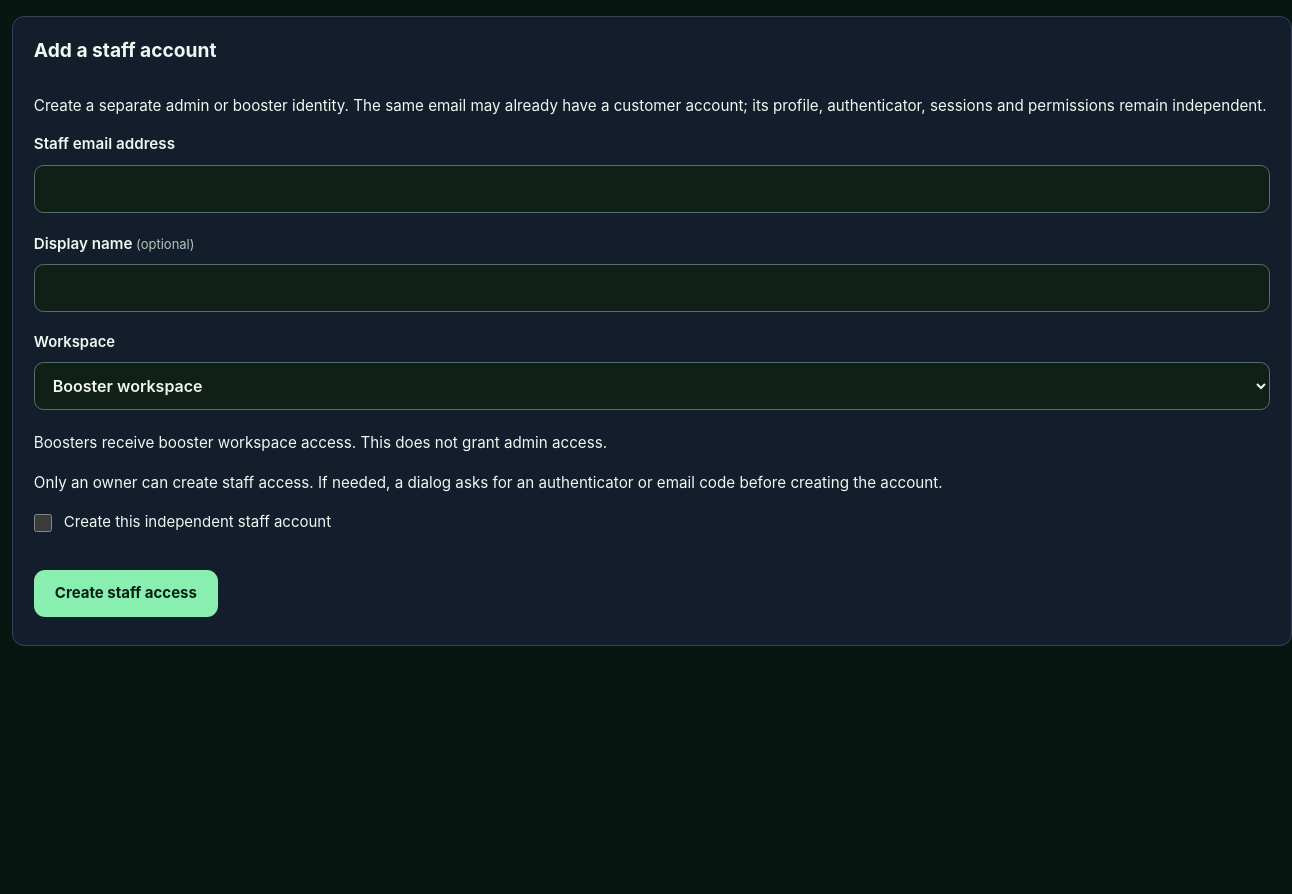
Test: creates separate admin access without sending an email
The image size is (1292, 894).
Type "same@example.test" into the field labelled "Staff email address". click: [652, 189]
box: [34,165,1270,213]
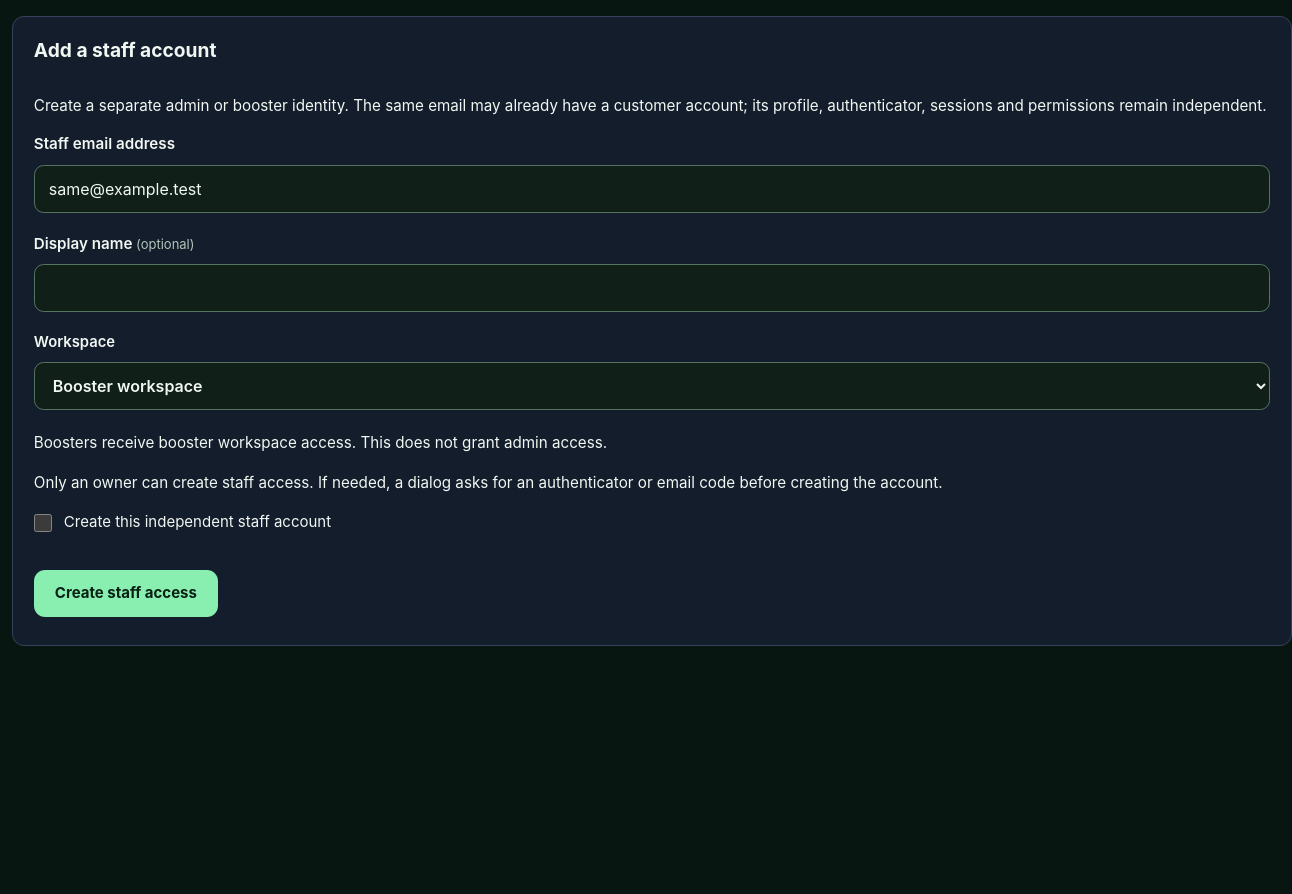
Type "New staff" into the field labelled "Display name (optional)". click: [652, 288]
box: [34,264,1270,312]
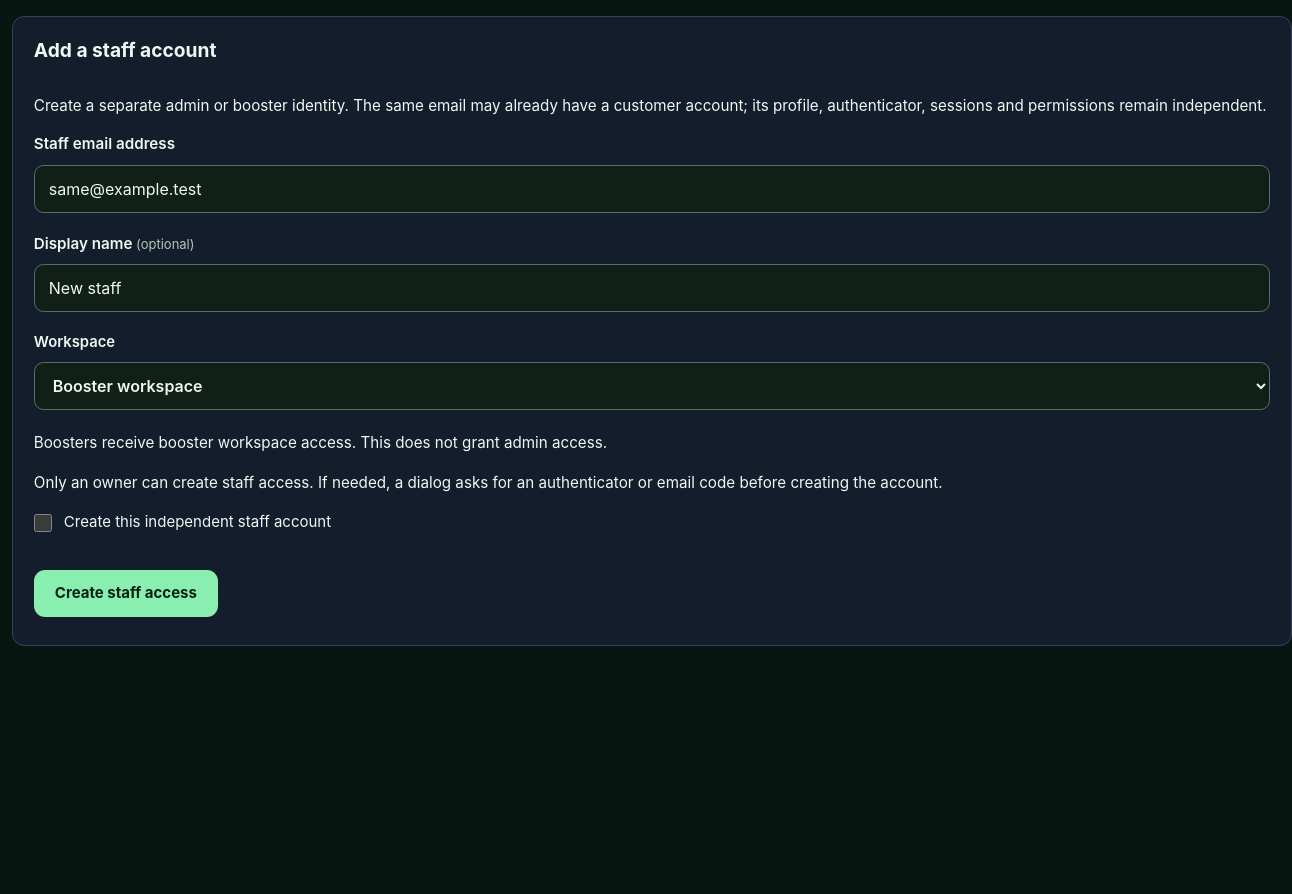
Select "Admin workspace" in the dropdown labelled "Workspace". click: [652, 386]
box: [34,362,1270,410]
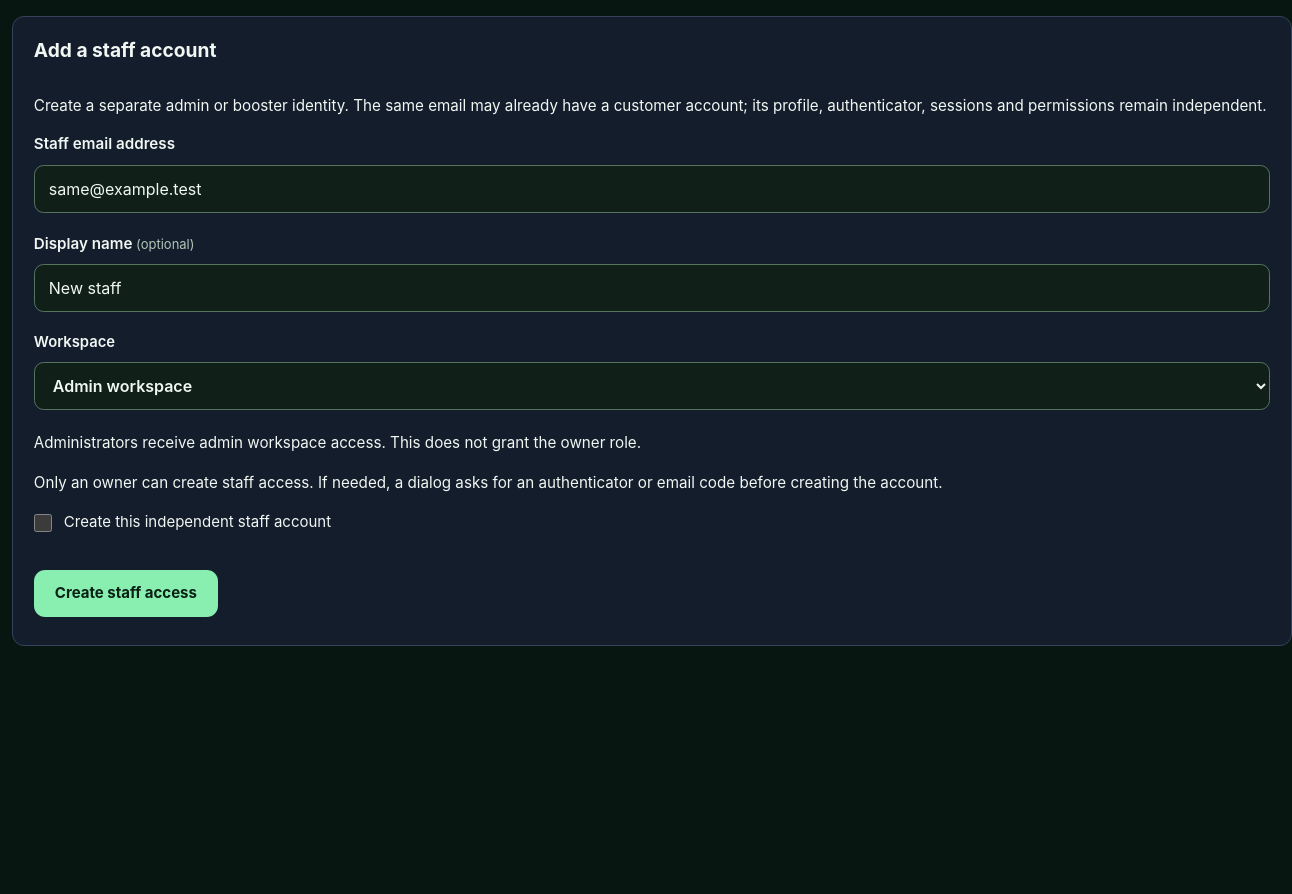
Click the checkbox. click: [43, 522]
box: [34,514,52,532]
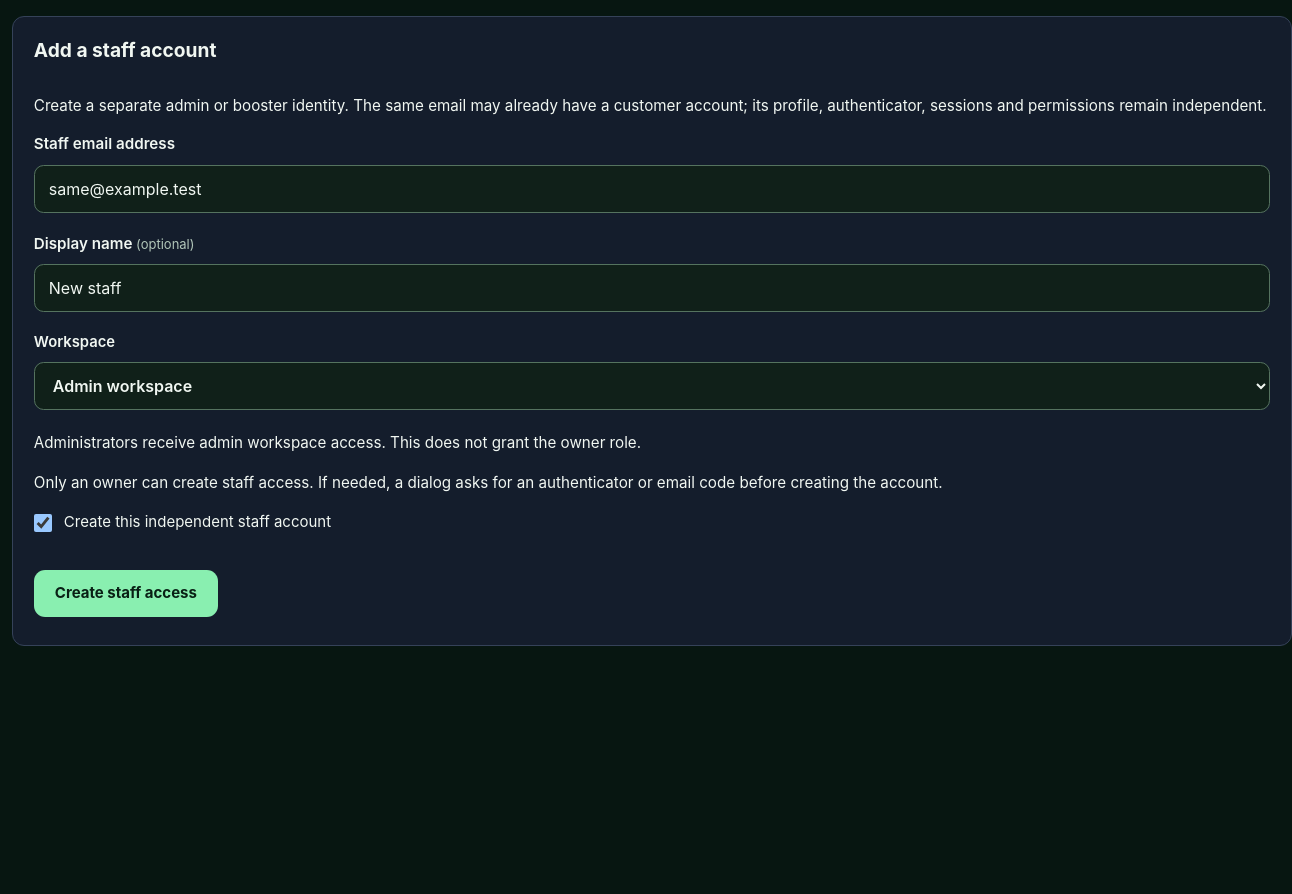
Submit the form named "Create staff access"
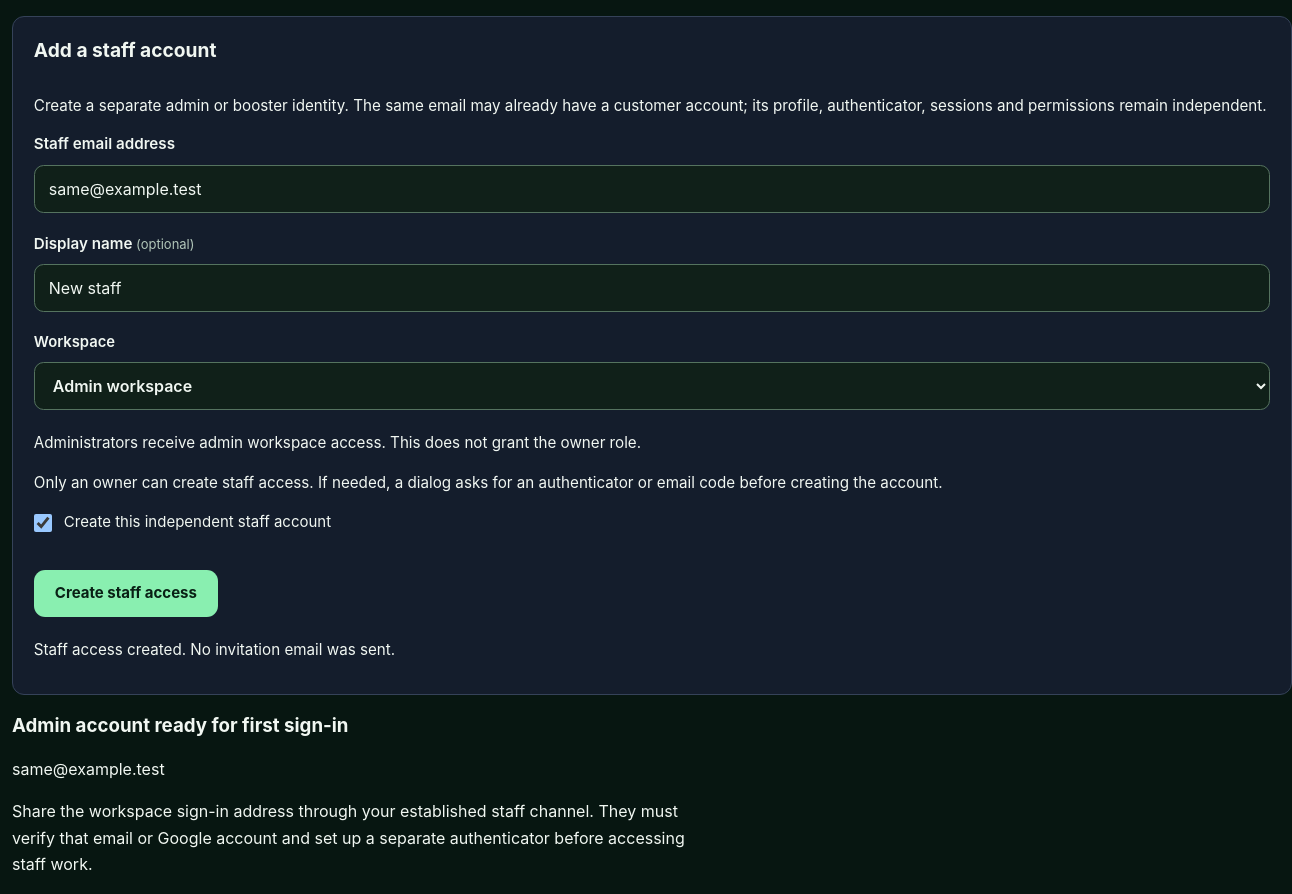
Expected: the text "a dialog asks for" is shown, [34,473,943,492]
Expected: the text "Staff access created. No invitation email was sent." is shown, [34,640,395,659]
